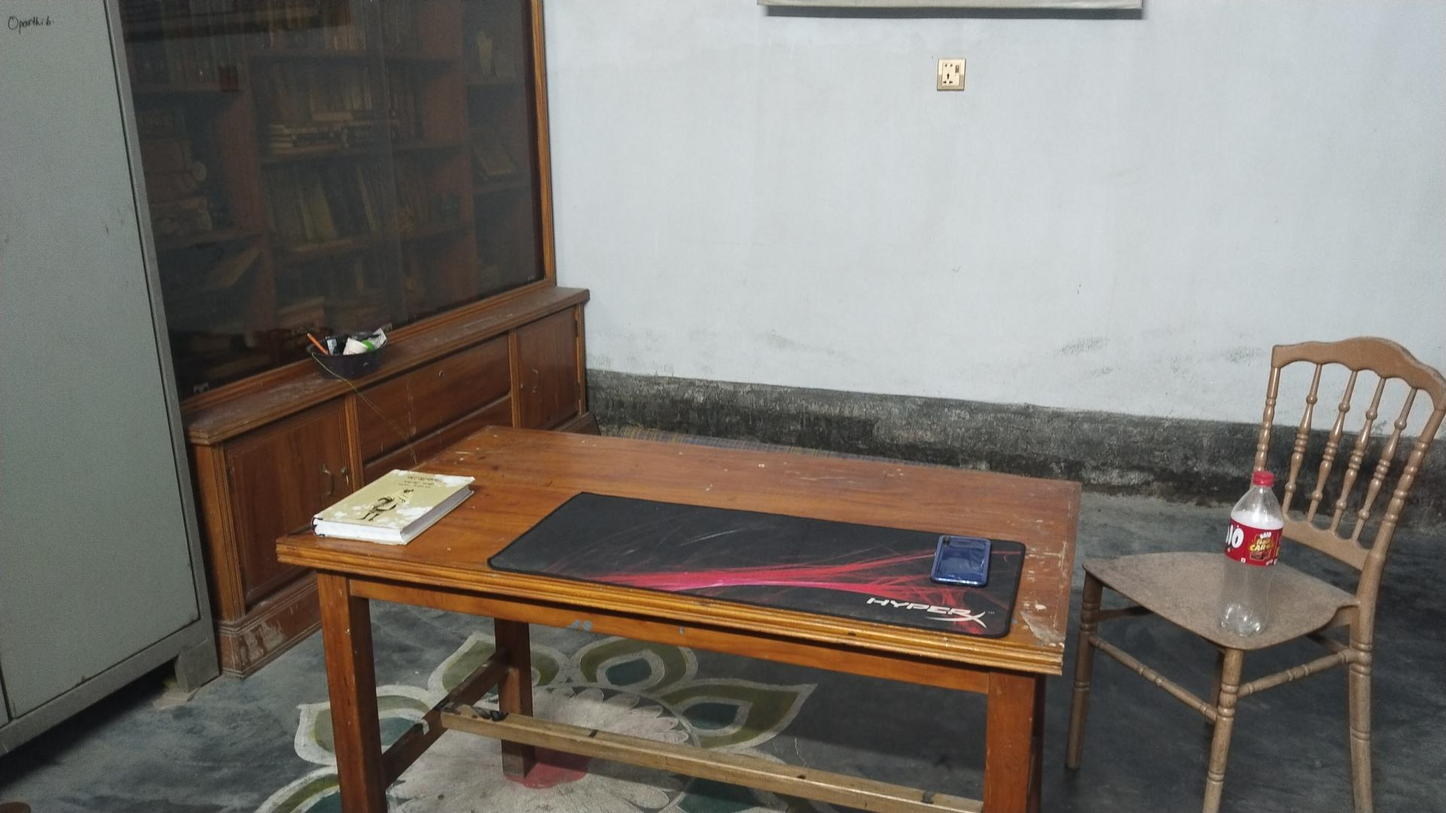Book: (314, 455, 477, 547)
Bottle: (1225, 463, 1287, 640)
Chair: (1084, 333, 1446, 813)
Phone: (925, 523, 992, 592)
Table: (277, 418, 1082, 813)
